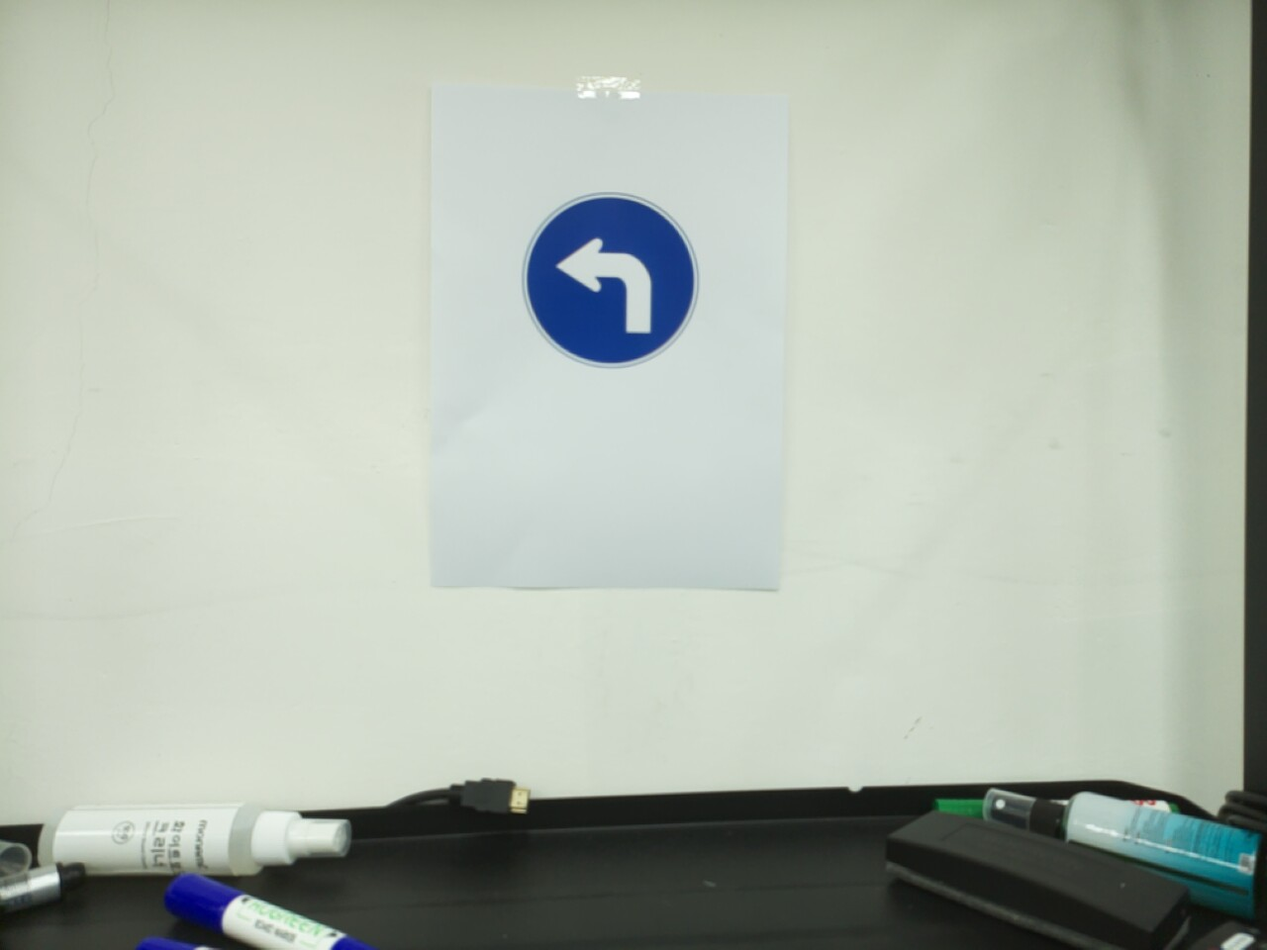left_turn: (520, 190, 701, 370)
